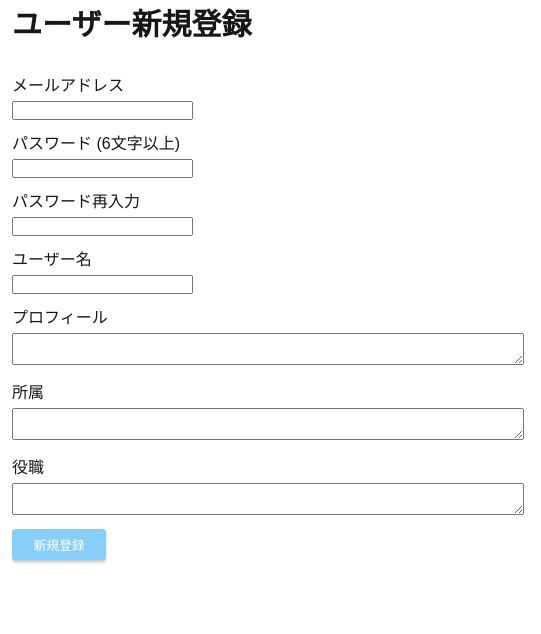
Scenario: ユーザー登録のテスト › メールアドレスが空のときにエラーメッセージが表示され、それぞれの入力欄に入力した値が残ること
In the password field labelled "パスワード (6文字以上)": (102, 168) [12,159,193,178], type "password"
In the password field labelled "パスワード再入力": (102, 226) [12,217,193,236], type "password"
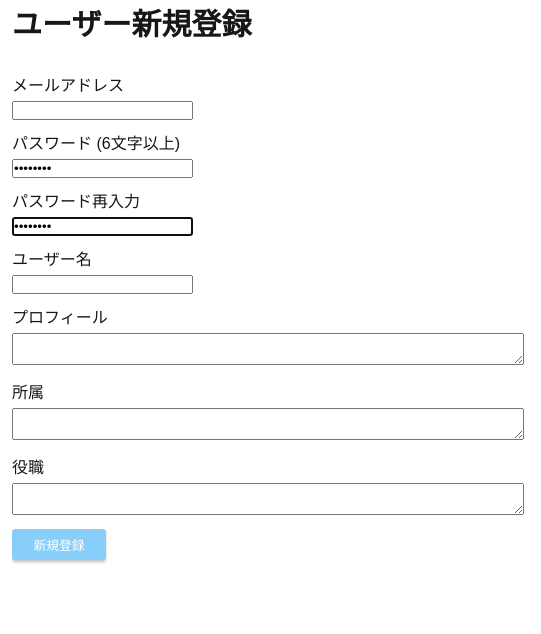
In the field labelled "ユーザー名": (102, 284) [12,275,193,294], type "testuser"
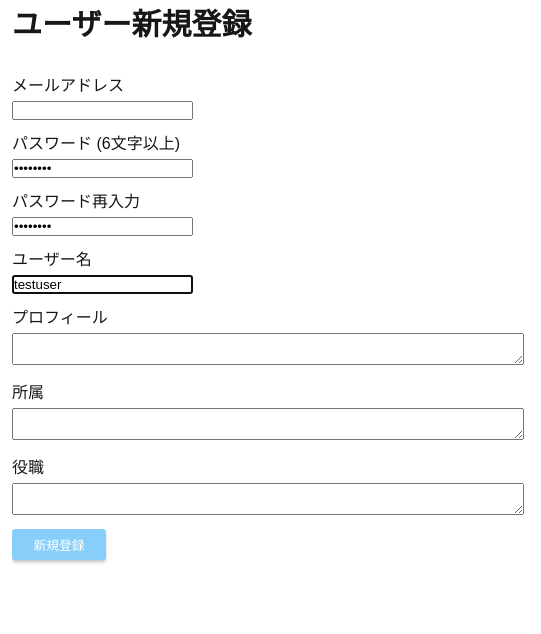
In the text box labelled "プロフィール": (268, 349) [12,333,524,365], type "自己紹介です"
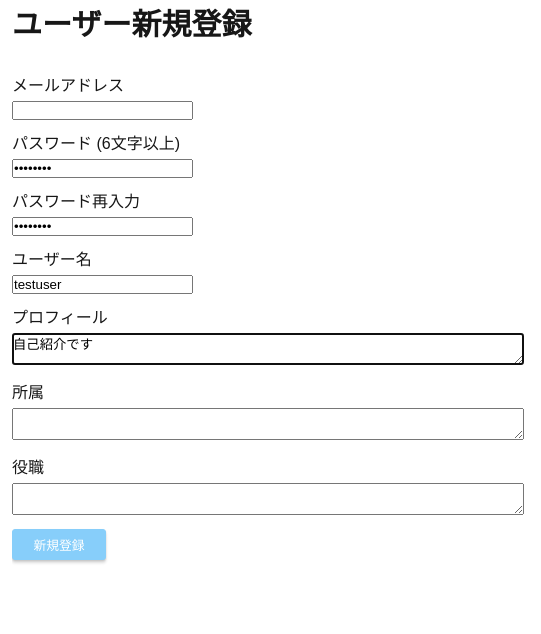
In the text box labelled "所属": (268, 424) [12,408,524,440], type "開発部"
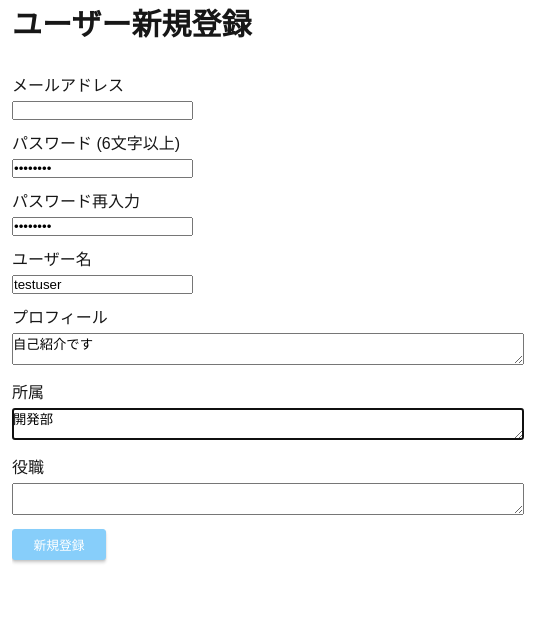
In the text box labelled "役職": (268, 499) [12,483,524,515], type "エンジニア"
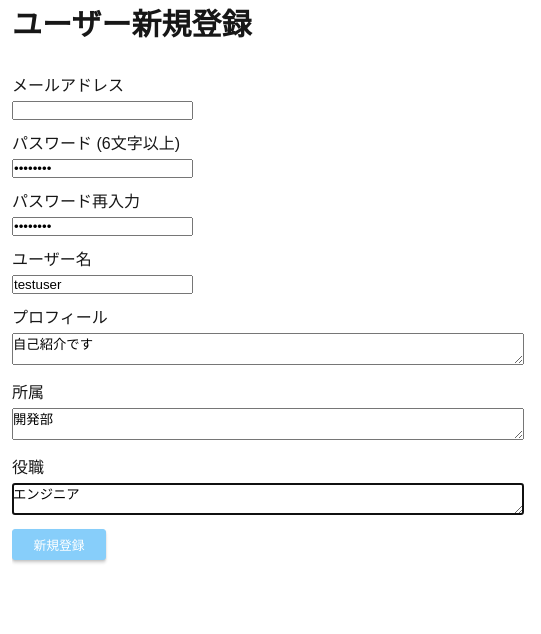
Click the button "新規登録": (59, 545) [12,529,106,560]
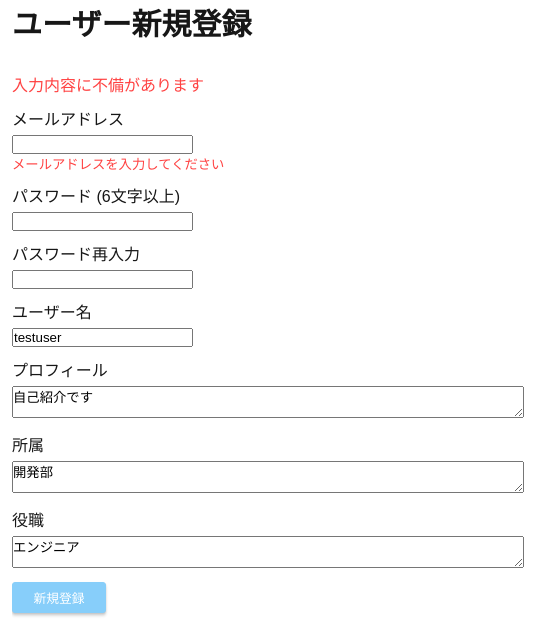
Now the text "メールアドレスを入力してください" is shown, box [12,157,224,172]
